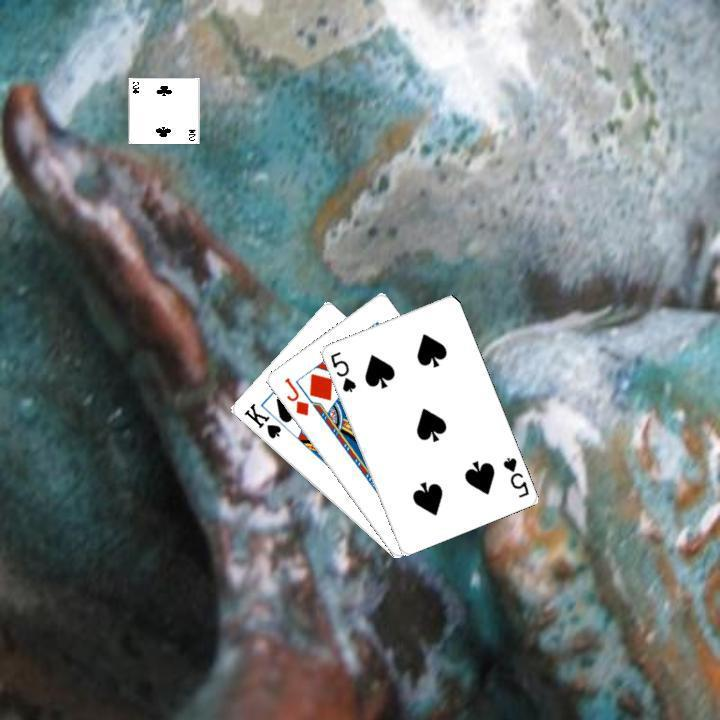5: (498, 452, 531, 500), (325, 347, 358, 394)
J: (279, 373, 311, 418)
K: (239, 399, 283, 441)
